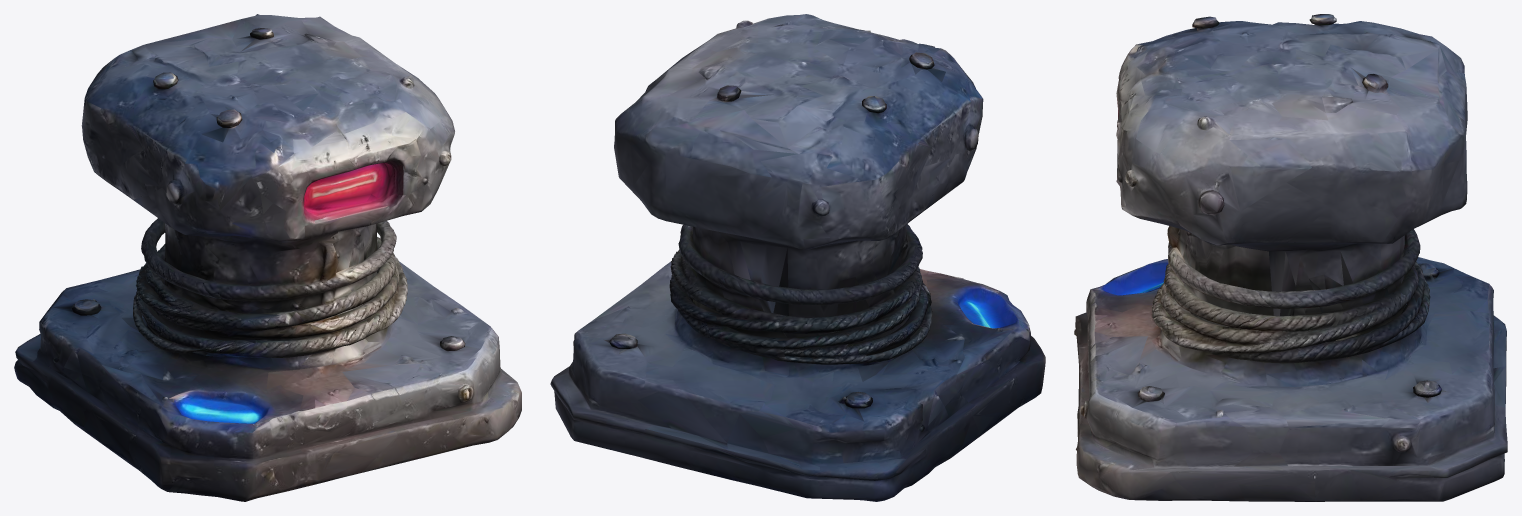
The model's file is GM_NeonBollard_Soft.glb.
3 views of the same model, side by side, from view 1: azimuth 30°, elevation 25°; view 2: azimuth 150°, elevation 25°; view 3: azimuth 270°, elevation 25° (orthographic). The views are drawn at different scales.
Visible parts, largest first — view 1: tripo_node_8feb1d3d-1e38-4330-a540-7b3f19caba02; view 2: tripo_node_8feb1d3d-1e38-4330-a540-7b3f19caba02; view 3: tripo_node_8feb1d3d-1e38-4330-a540-7b3f19caba02.
Boxes of the visible parts, <box> form: tripo_node_8feb1d3d-1e38-4330-a540-7b3f19caba02: <box>14,14,521,501</box>; tripo_node_8feb1d3d-1e38-4330-a540-7b3f19caba02: <box>550,14,1045,501</box>; tripo_node_8feb1d3d-1e38-4330-a540-7b3f19caba02: <box>1074,14,1507,501</box>.
Size of the model in its own units: 0.9798 by 0.8915 by 0.9822.
1 material, 1 textured.
